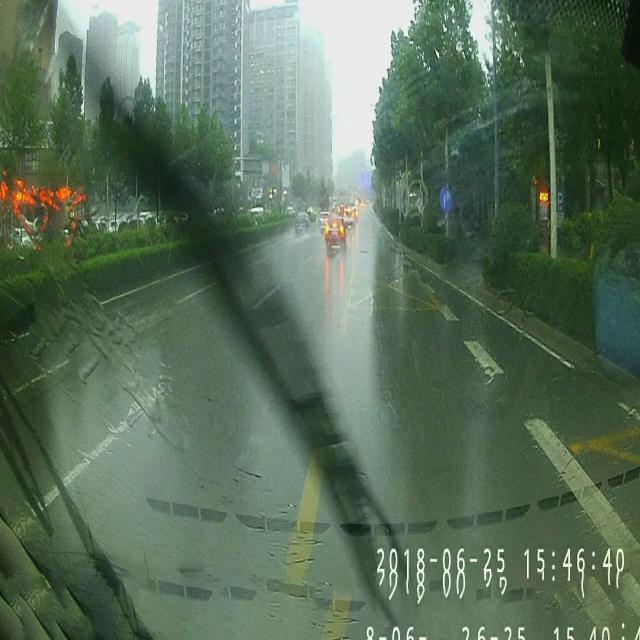car: (325, 214, 347, 250), (294, 212, 310, 236), (342, 204, 356, 227), (318, 210, 331, 232)
